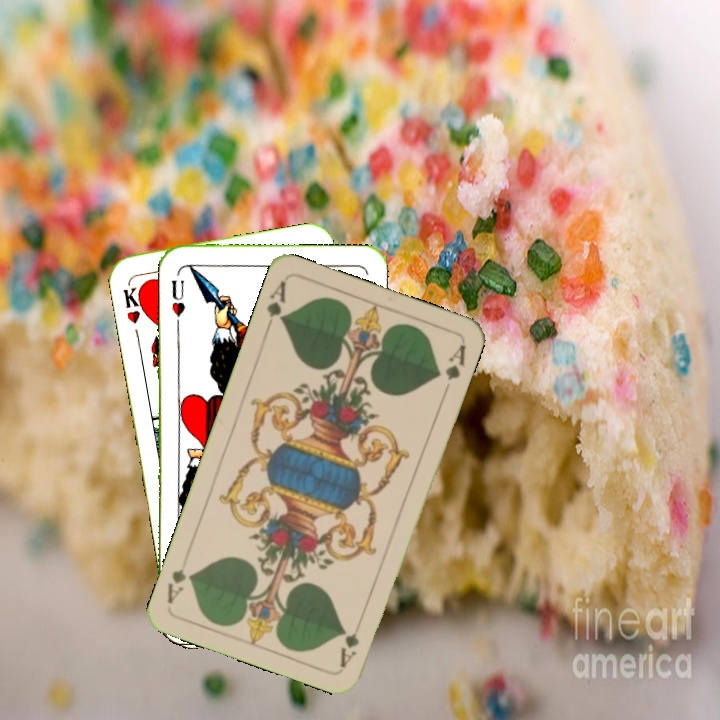GA: (261, 277, 289, 335), (336, 613, 363, 670)
HK: (119, 279, 149, 326)
HU: (167, 275, 187, 327)
